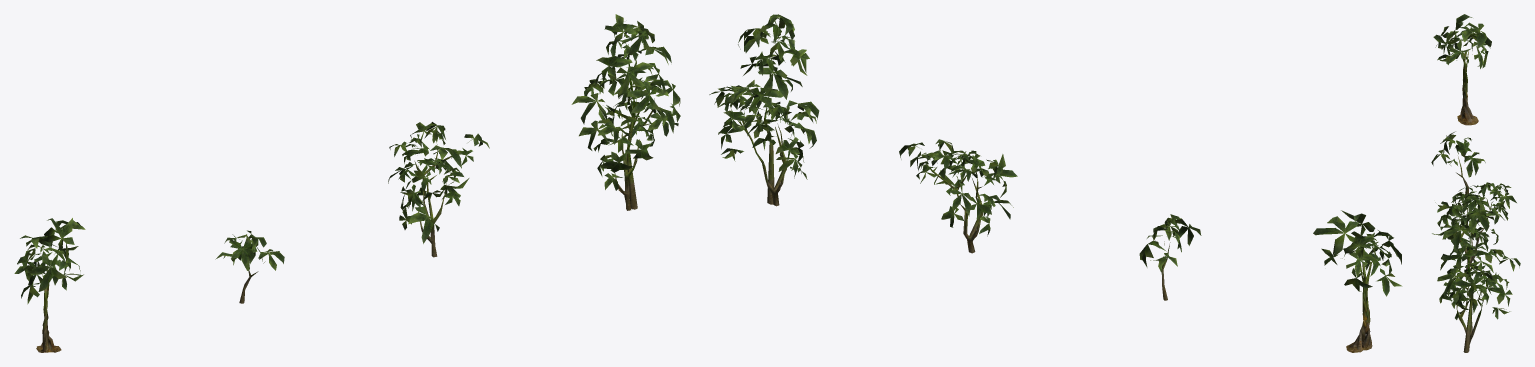
File: pachira_aquatica_01.glb
The picture shows the model from 3 angles, left to right: view 1: azimuth 30°, elevation 25°; view 2: azimuth 150°, elevation 25°; view 3: azimuth 270°, elevation 25°; orthographic projection. The views are drawn at different scales.
Visible parts, largest first — view 1: pachira_aquatica_01_leaves_a, pachira_aquatica_01_bark_a; view 2: pachira_aquatica_01_leaves_a, pachira_aquatica_01_bark_a; view 3: pachira_aquatica_01_leaves_a, pachira_aquatica_01_bark_a.
Part boxes in pixels (<box>): pachira_aquatica_01_leaves_a: <box>14,14,680,304</box>; pachira_aquatica_01_bark_a: <box>36,44,654,352</box>; pachira_aquatica_01_leaves_a: <box>709,14,1402,296</box>; pachira_aquatica_01_bark_a: <box>730,55,1372,352</box>; pachira_aquatica_01_leaves_a: <box>1431,14,1520,319</box>; pachira_aquatica_01_bark_a: <box>1450,50,1498,352</box>.
Bounding box in the file's own units: 6.87 × 1.89 × 0.9825.
2 materials, 2 textured.
